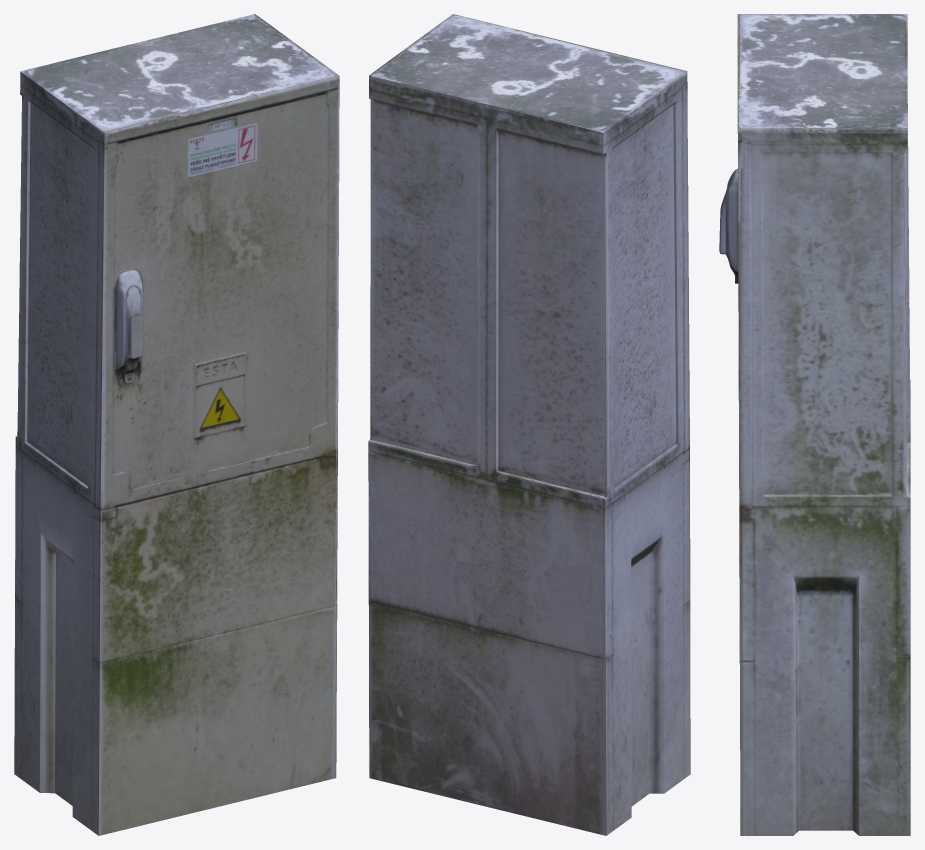
Rendered from OldPowerGrid.fbx.
3 renders of one model, left to right at view 1: azimuth 30°, elevation 25°; view 2: azimuth 150°, elevation 25°; view 3: azimuth 270°, elevation 25°, orthographic.
Visible parts, largest first — view 1: Electricity Box; view 2: Electricity Box; view 3: Electricity Box.
Part boxes in pixels (bbox=[...]): Electricity Box: bbox=[14, 14, 339, 835]; Electricity Box: bbox=[368, 14, 690, 835]; Electricity Box: bbox=[719, 14, 910, 835].
Size of the model in its own units: 44.44 by 125 by 30.48.
1 material, 1 textured.
